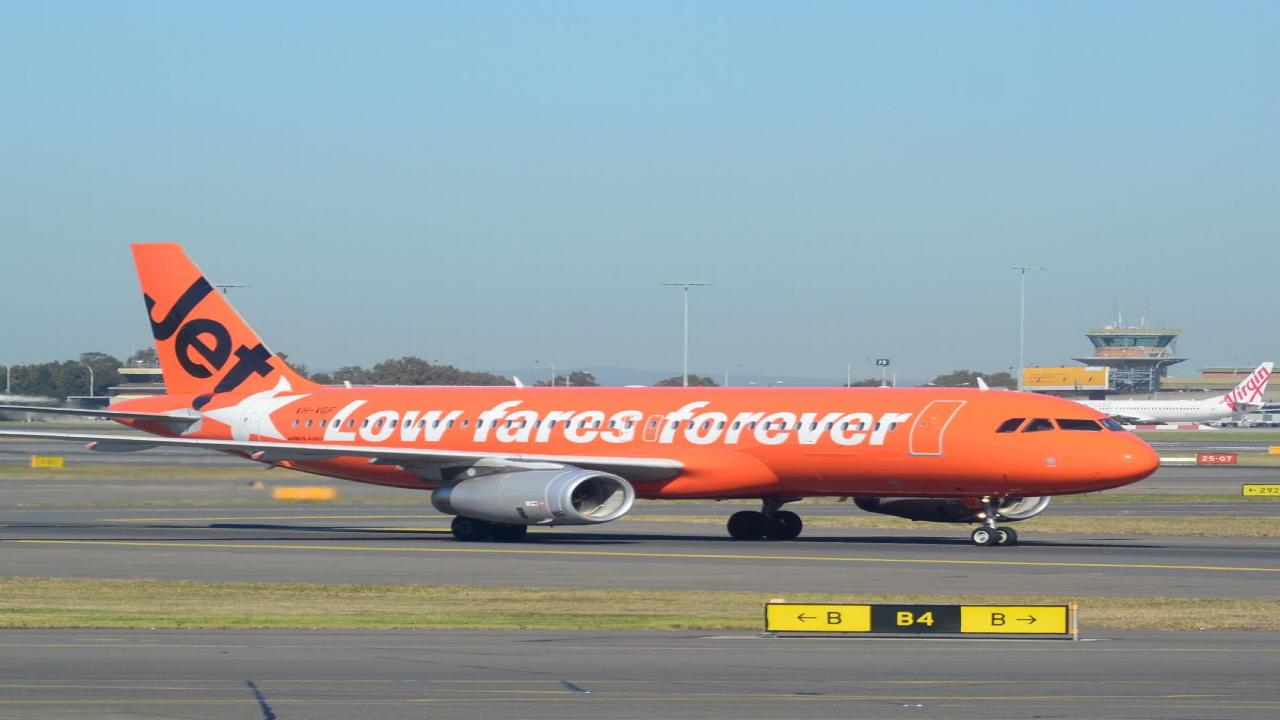Airplane: (5, 235, 1183, 558)
